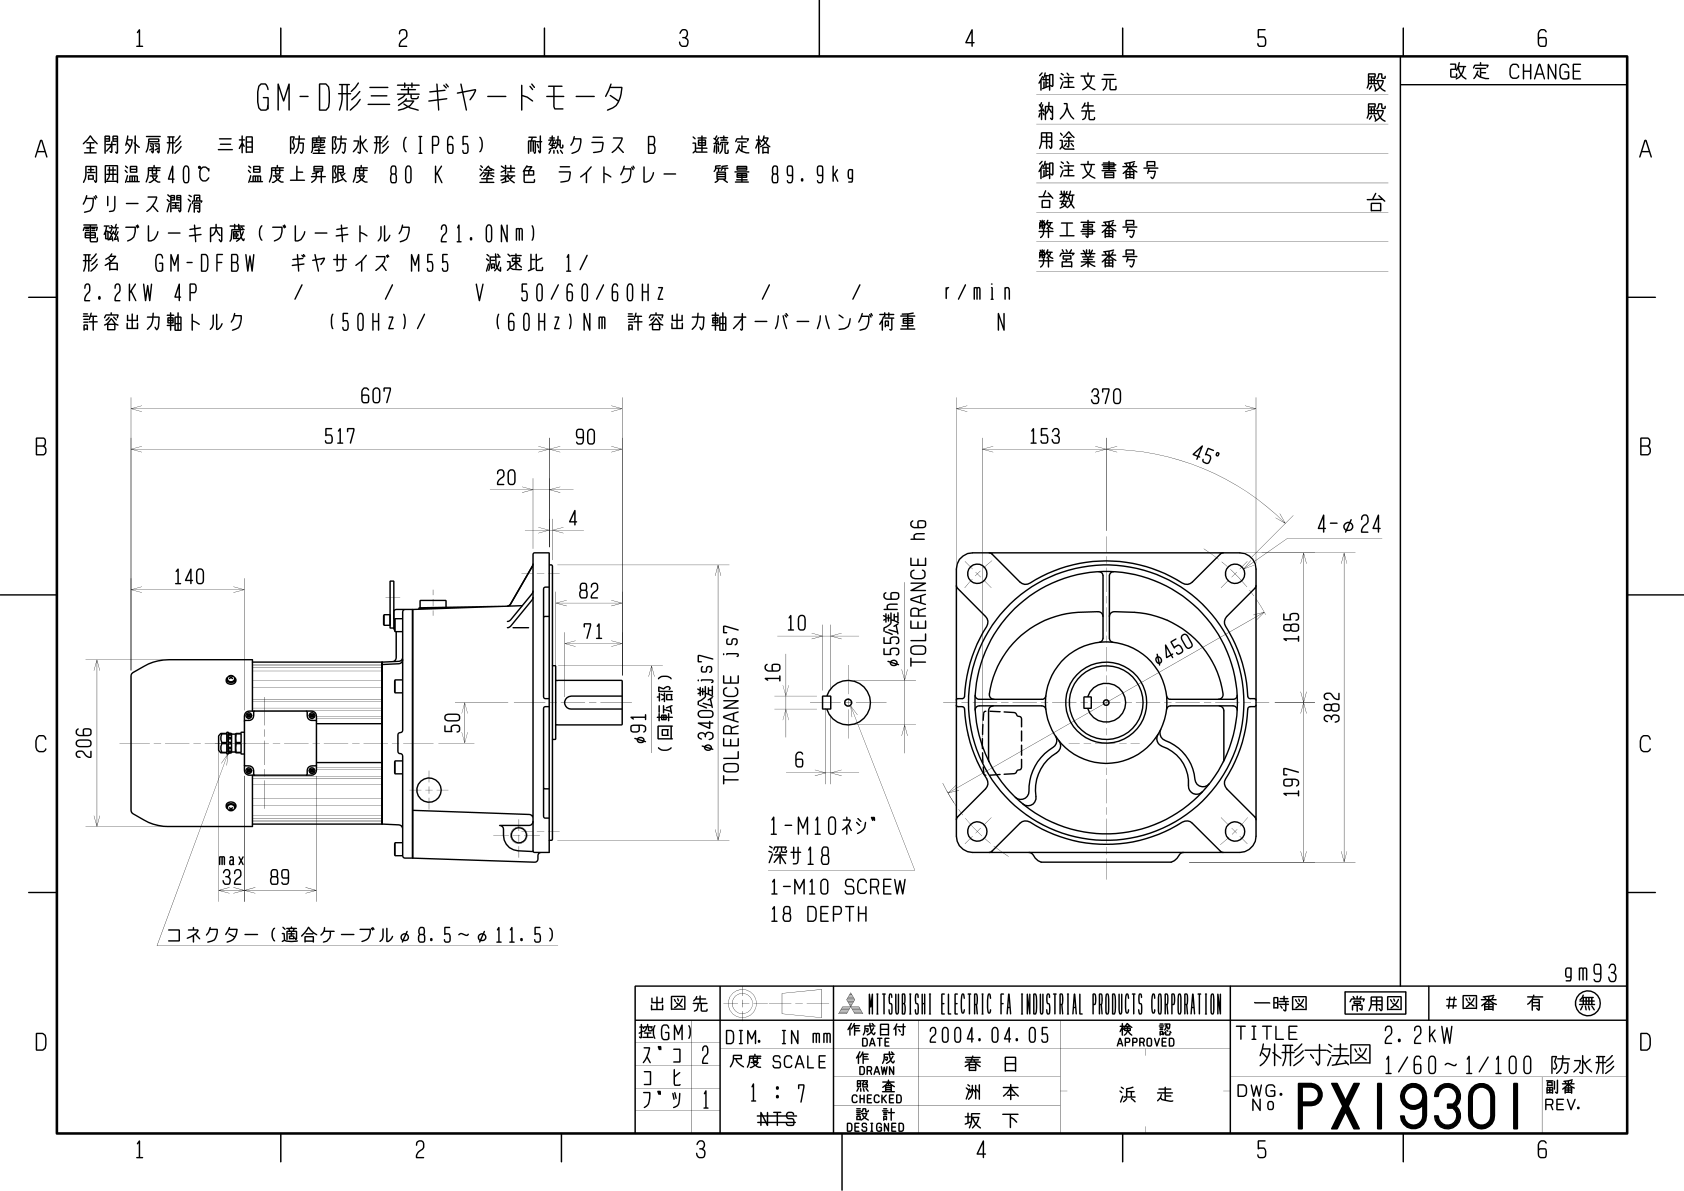GM_D_IP65_三相_フランジ: (4, 8, 1684, 1191)
